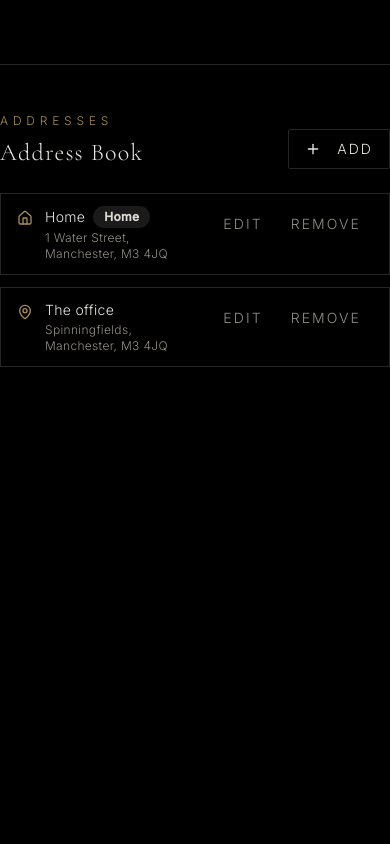
Test: the member's address book › offers to edit an address without preselecting home for it
Click the button "Edit" in the row of "The office": (243, 318) [211,300,275,336]
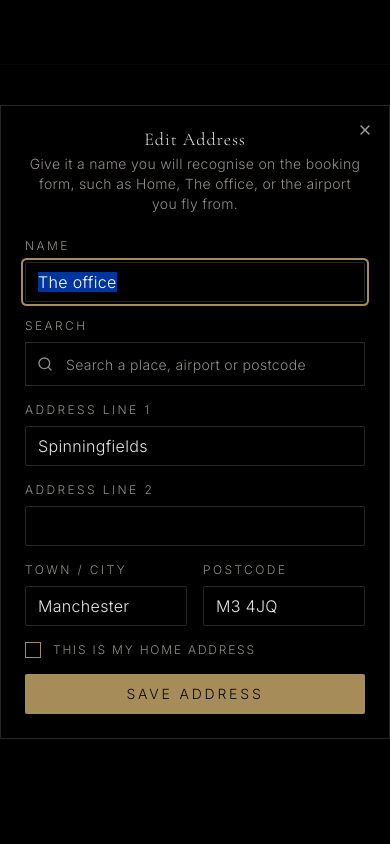
Check: the 1st field showing "The office" is shown, box [25,262,365,302]
Check: the checkbox is not checked, box [25,642,41,658]
